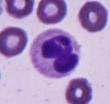N: (29, 28, 81, 79)
